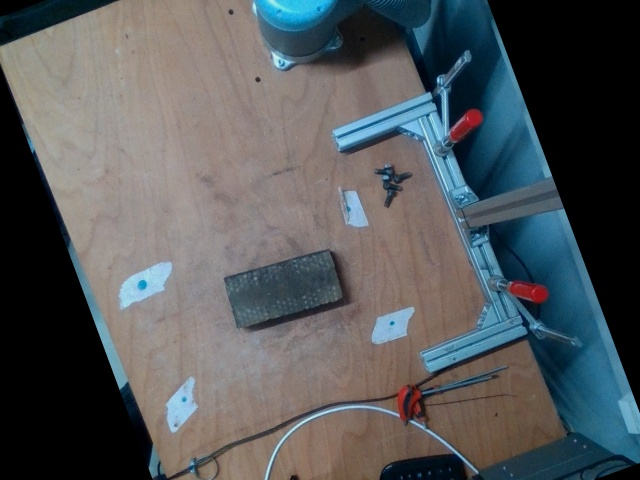brick: (222, 250, 345, 330)
